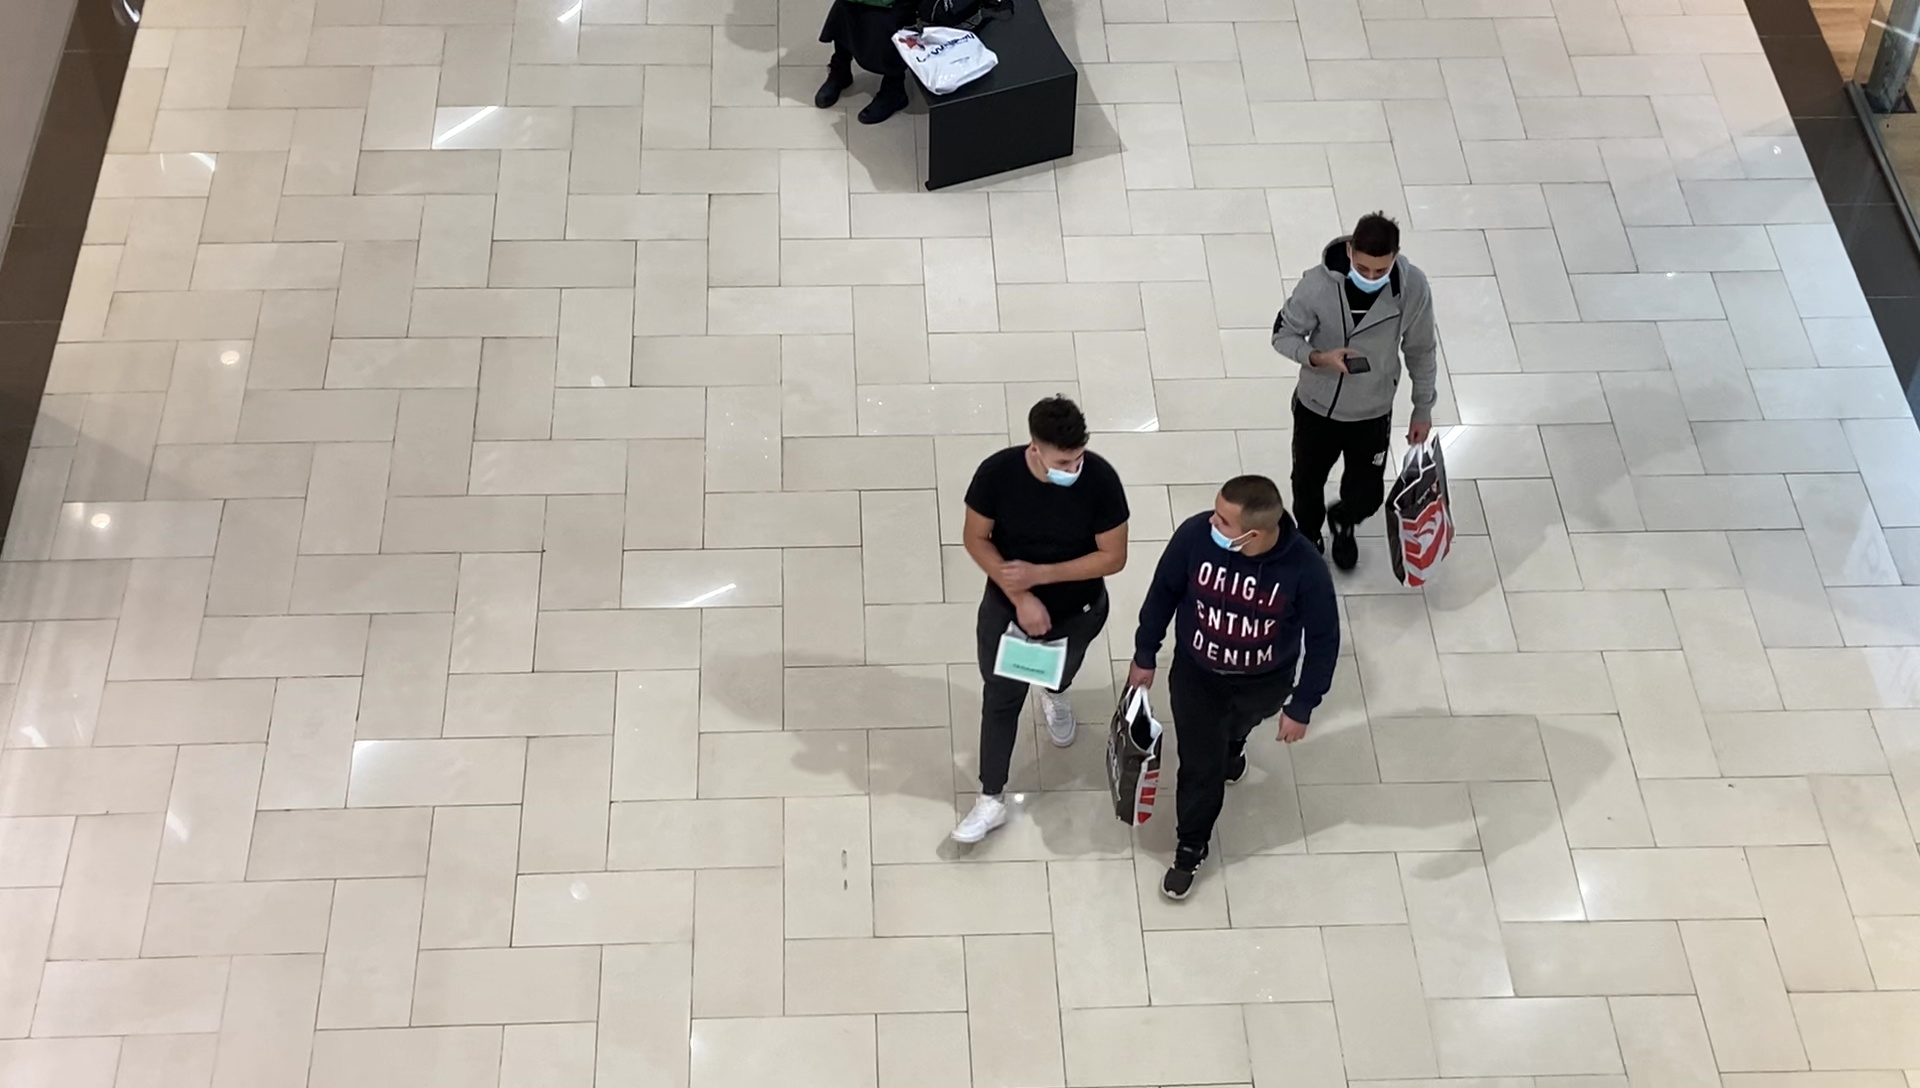person: (1126, 476, 1342, 906), (953, 394, 1129, 847), (1271, 214, 1439, 578)
